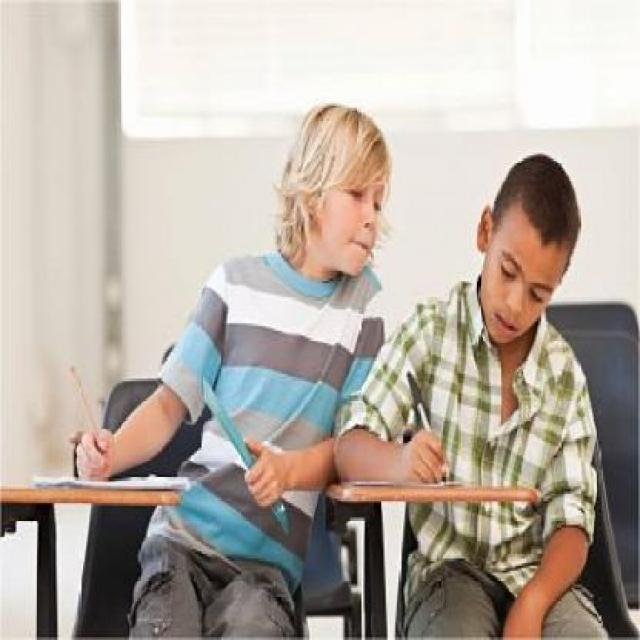cheating: (30, 90, 400, 497)
good: (394, 143, 596, 518)
